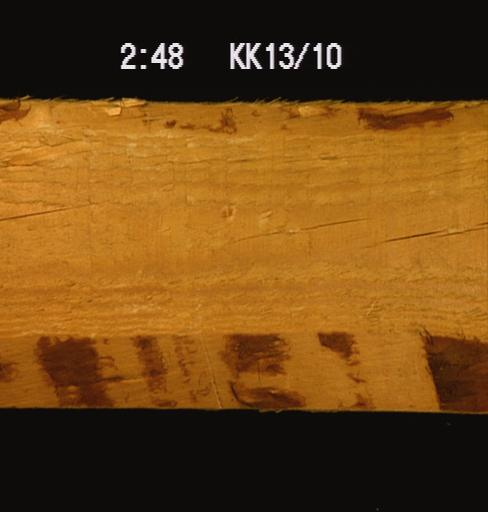split: (227, 211, 365, 238), (0, 193, 119, 224), (371, 220, 485, 247)
wave: (0, 332, 487, 416), (0, 100, 487, 131)
